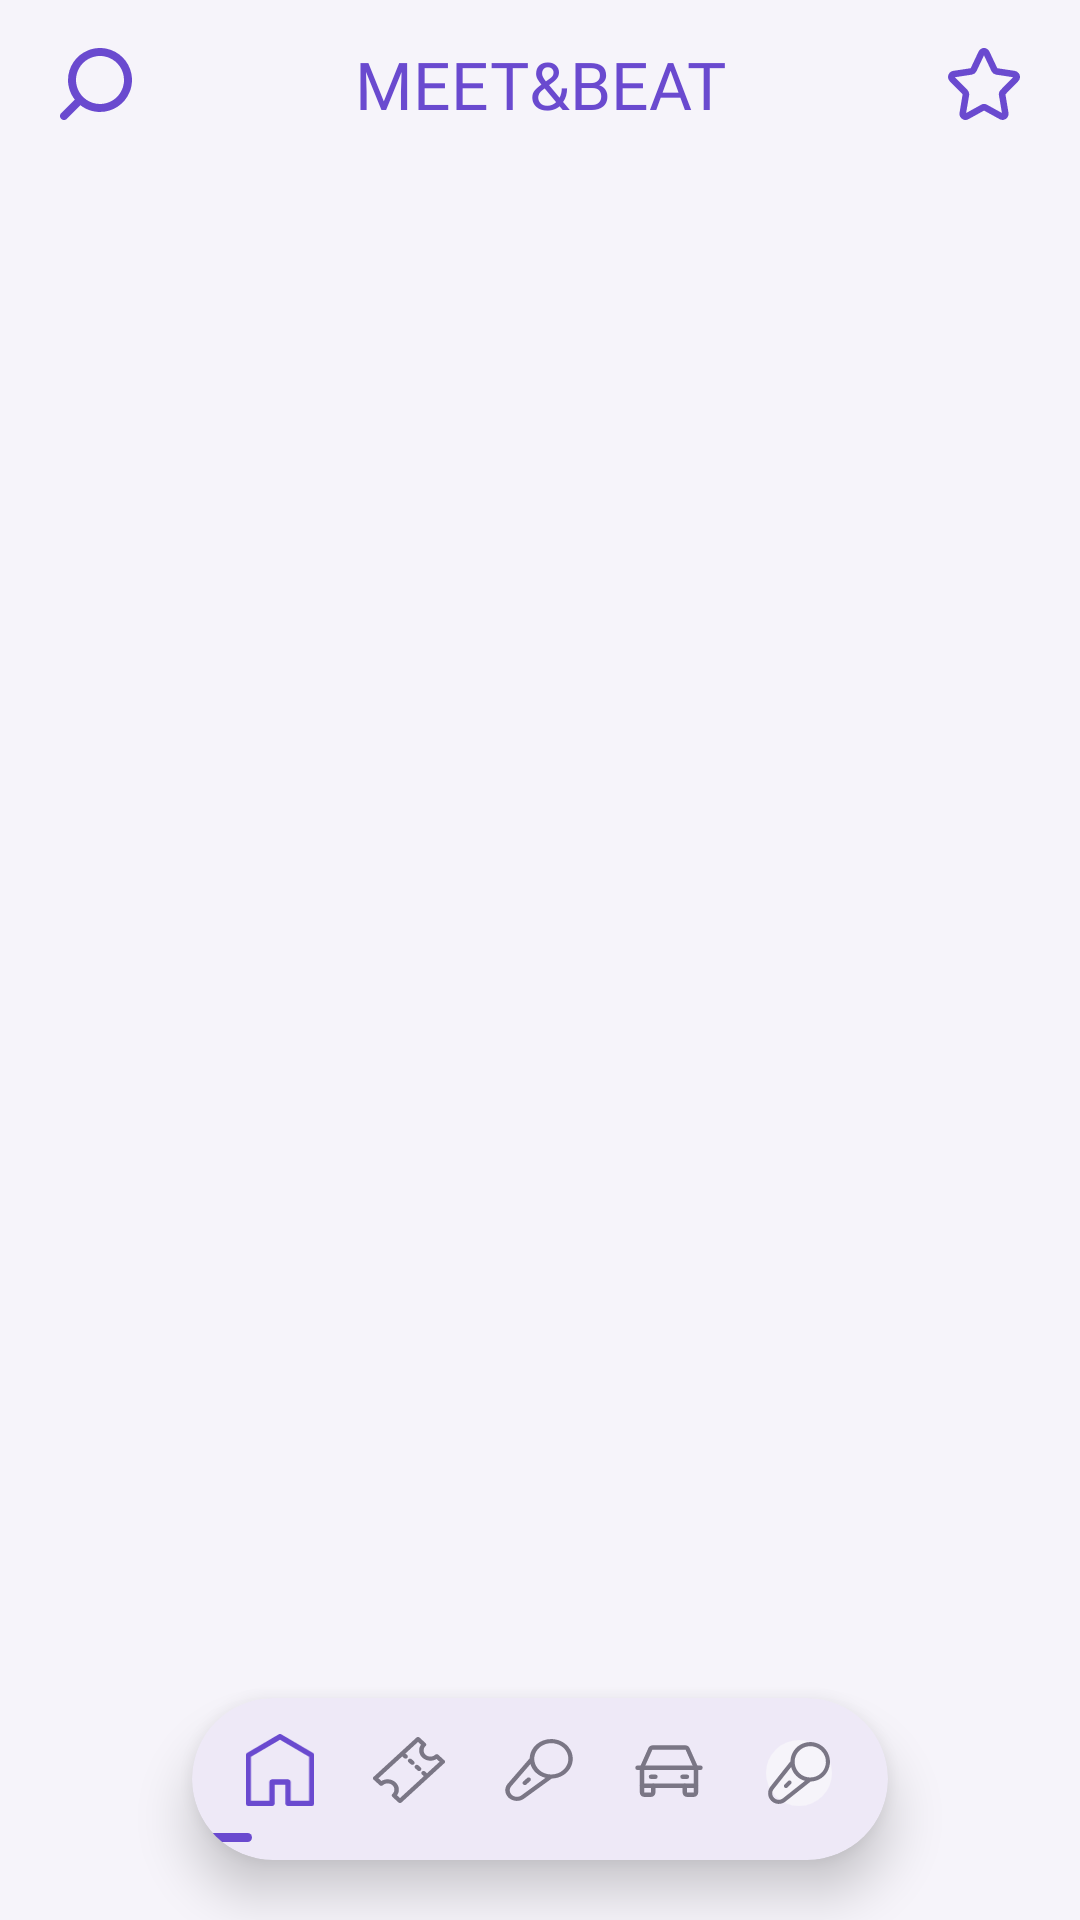

Icons on this 1080×1920 Android screen, each with the point to tap as point (x, y):
Buscar: point (96, 84)
home: point (280, 1770)
mic: point (539, 1770)
ticket: point (409, 1770)
